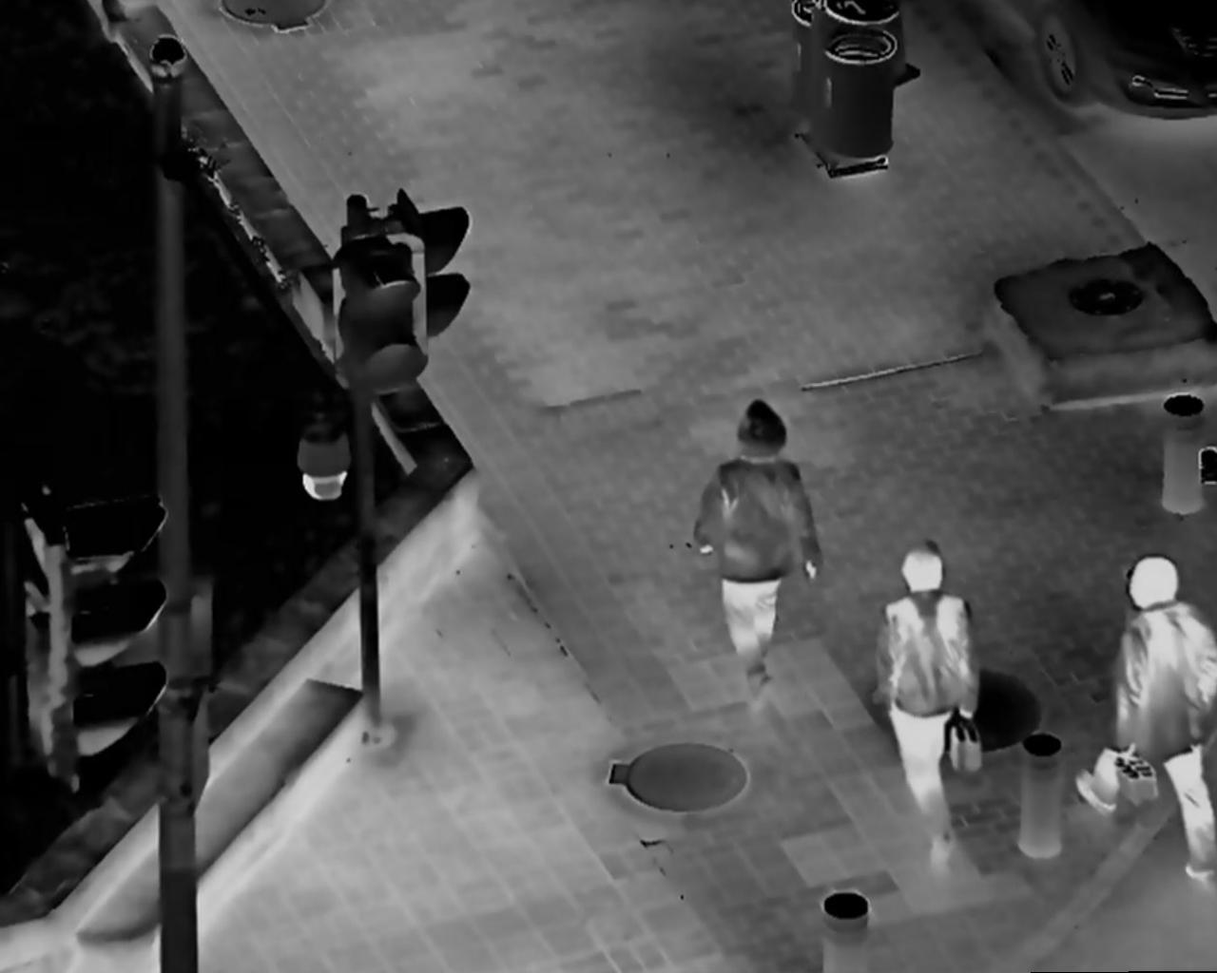person: (688, 391, 830, 724), (1088, 536, 1217, 893), (861, 541, 998, 877)
